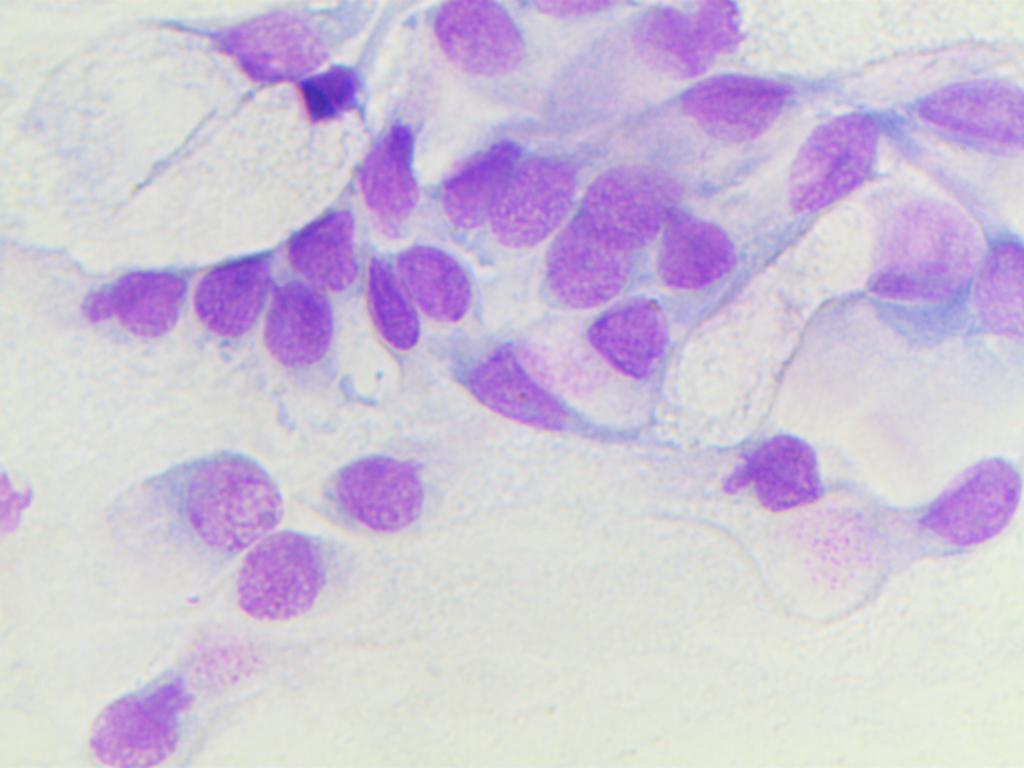epithelial: (786, 447, 1020, 626), (85, 629, 267, 768), (142, 445, 287, 582), (871, 183, 981, 310), (474, 145, 596, 256), (711, 423, 832, 527), (79, 239, 188, 351), (316, 447, 448, 539), (772, 105, 879, 216), (603, 3, 758, 79), (574, 292, 697, 383), (241, 530, 364, 619), (461, 345, 581, 435), (568, 159, 692, 246), (920, 68, 1024, 169), (525, 220, 638, 312), (677, 62, 789, 149), (351, 112, 425, 242), (950, 229, 1024, 351), (431, 0, 540, 79), (352, 251, 426, 365), (443, 123, 515, 235), (652, 203, 744, 288), (256, 277, 336, 373), (397, 248, 483, 325)
goblet_cell: (106, 53, 374, 272), (221, 154, 371, 299), (163, 7, 337, 128), (162, 197, 279, 343)
